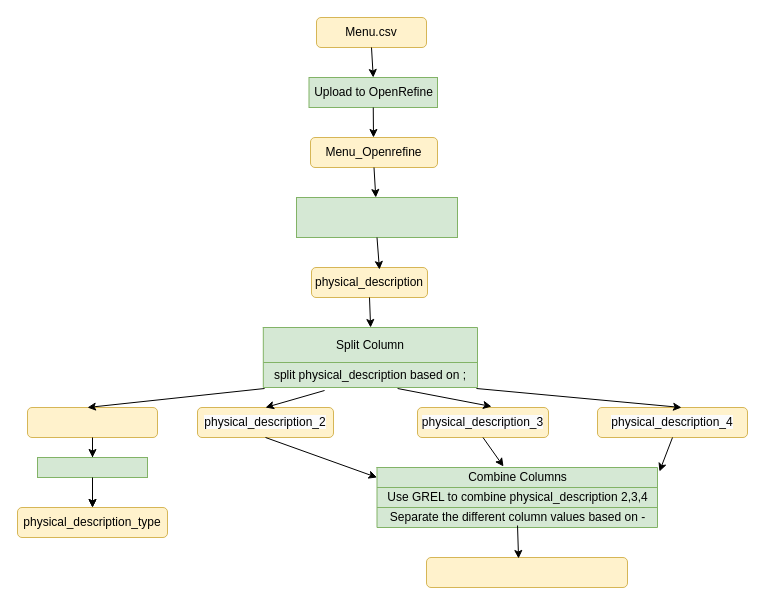
Image size: 765x605. Some labels were removed from this diagram. Here are the shapes that lost their labels. From the top down, the centre of each, then its label:
point (377, 217): Clean physical_description
point (92, 422): physical_description_1
point (92, 467): rename
point (527, 572): physical_description_additional
